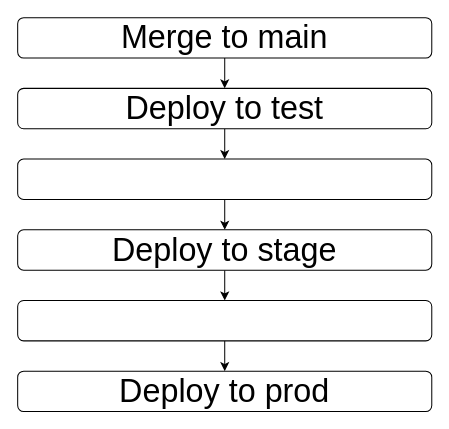
This 449x429 diagram has some shape labels left out. Here are the shapes that lost their labels. From the top down, the centre of each, then its label:
At [224,178]: "Create stage branch".
At [224,320]: "Create prod release".
